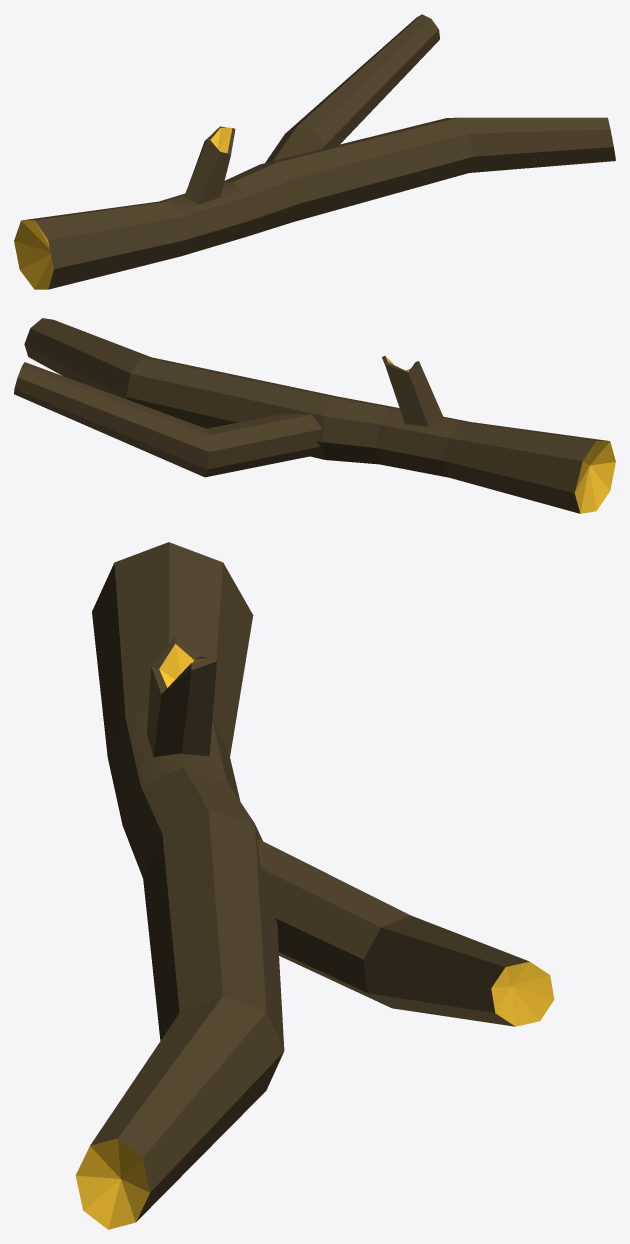
Rendered from Branch.fbx.
3 views of the same model, one above another, from view 1: azimuth 30°, elevation 25°; view 2: azimuth 150°, elevation 25°; view 3: azimuth 270°, elevation 25° (orthographic). The views are drawn at different scales.
Parts seen in each view (by area): view 1: Branch; view 2: Branch; view 3: Branch.
Part boxes in pixels (left/top/right/bottom): Branch: left=14, top=14, right=615, bottom=289; Branch: left=14, top=318, right=615, bottom=513; Branch: left=75, top=542, right=554, bottom=1229.
Bounding box in the file's own units: 0.5712 × 0.1063 × 0.2077.
